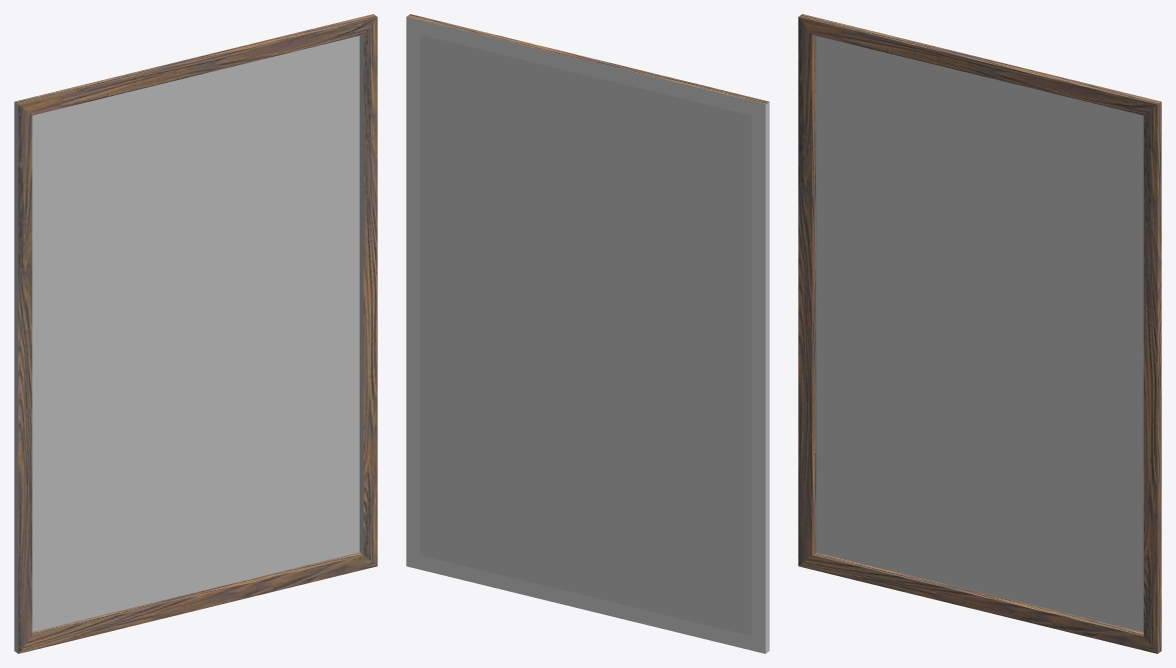
The model's file is papan buletin 2.fbx.
3 renders of one model, left to right at view 1: azimuth 30°, elevation 25°; view 2: azimuth 150°, elevation 25°; view 3: azimuth 330°, elevation 25°, orthographic.
Visible parts, largest first — view 1: G-__556104, G-__556041, G-__556095, G-__556077, G-__556068, G-__556059, G-__556086, G-__556050; view 2: G-__556104, G-__556095; view 3: G-__556104, G-__556041, G-__556095, G-__556077, G-__556068, G-__556059, G-__556086, G-__556050.
Boxes of the visible parts, bbox=[...] form: G-__556104: bbox=[32, 36, 359, 631]; G-__556041: bbox=[185, 59, 350, 328]; G-__556095: bbox=[14, 14, 377, 653]; G-__556077: bbox=[46, 132, 173, 351]; G-__556068: bbox=[48, 433, 195, 617]; G-__556059: bbox=[229, 308, 345, 472]; G-__556086: bbox=[231, 474, 347, 569]; G-__556050: bbox=[117, 364, 202, 420]; G-__556104: bbox=[420, 35, 751, 635]; G-__556095: bbox=[406, 14, 769, 653]; G-__556104: bbox=[816, 36, 1143, 631]; G-__556041: bbox=[969, 95, 1135, 363]; G-__556095: bbox=[798, 14, 1161, 653]; G-__556077: bbox=[829, 90, 956, 308]; G-__556068: bbox=[832, 397, 979, 581]; G-__556059: bbox=[1014, 366, 1130, 503]; G-__556086: bbox=[1017, 520, 1133, 616]; G-__556050: bbox=[901, 332, 986, 416].
Bounding box in the file's own units: 66.04 × 96.52 × 1.27.
Materials: 2 (1 with a texture image).
